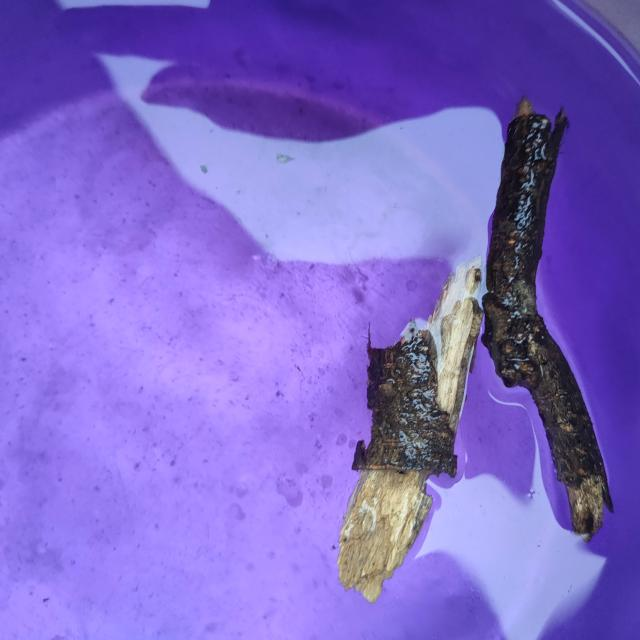wood: (325, 66, 613, 568), (480, 80, 618, 549), (360, 289, 458, 512)
